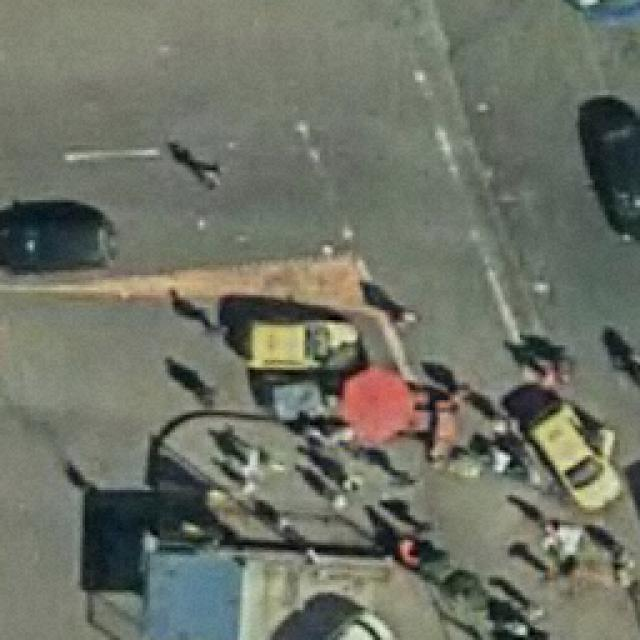vendedor_ambulante: (342, 361, 418, 440)
